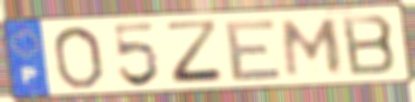5: (112, 20, 163, 90)
B: (338, 13, 400, 78)
E: (223, 16, 286, 84)
M: (280, 16, 345, 79)
O: (50, 24, 106, 91)
Z: (163, 18, 229, 86)
